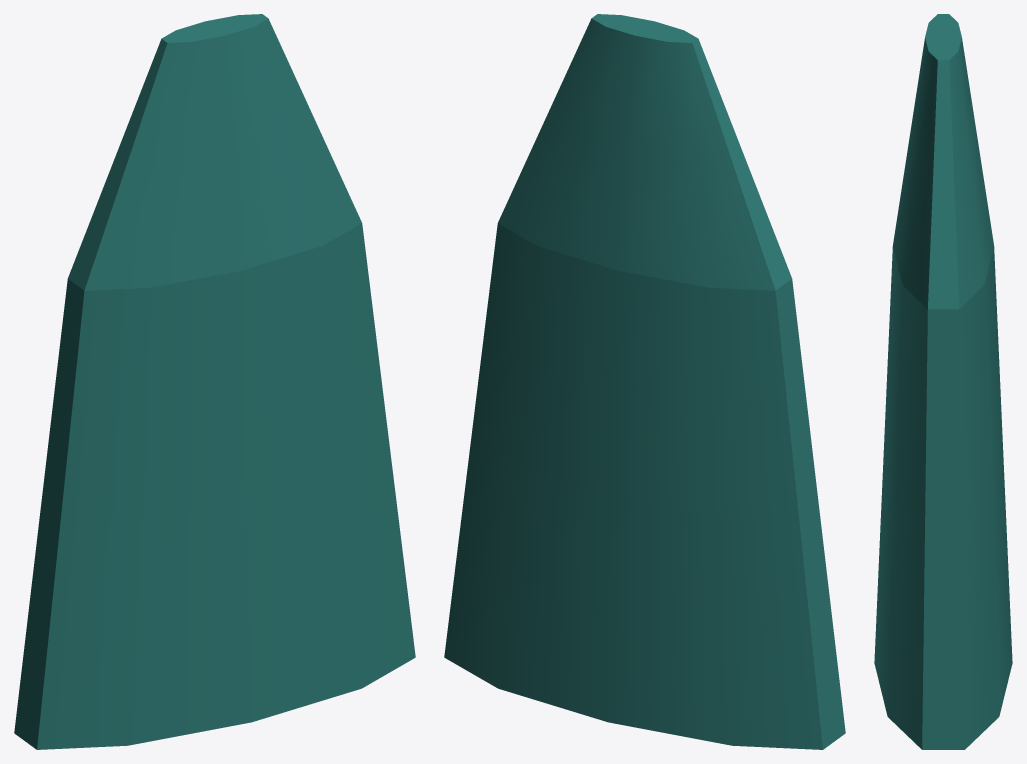
File: ear_floppy.glb
3 renders of one model, left to right at view 1: azimuth 30°, elevation 25°; view 2: azimuth 150°, elevation 25°; view 3: azimuth 270°, elevation 25°, orthographic. The views are drawn at different scales.
Parts seen in each view (by area): view 1: ear_floppy_seg0, ear_floppy_seg1, ear_floppy_seg2; view 2: ear_floppy_seg0, ear_floppy_seg1, ear_floppy_seg2; view 3: ear_floppy_seg0, ear_floppy_seg1, ear_floppy_seg2.
Part boxes in pixels (left/top/right/bottom): ear_floppy_seg0: left=14, top=440, right=415, bottom=749; ear_floppy_seg1: left=41, top=223, right=388, bottom=520; ear_floppy_seg2: left=68, top=14, right=361, bottom=290; ear_floppy_seg0: left=444, top=440, right=845, bottom=749; ear_floppy_seg1: left=471, top=223, right=818, bottom=520; ear_floppy_seg2: left=498, top=14, right=791, bottom=290; ear_floppy_seg0: left=874, top=455, right=1012, bottom=749; ear_floppy_seg1: left=883, top=246, right=1003, bottom=529; ear_floppy_seg2: left=893, top=14, right=993, bottom=309.
Bounding box in the file's own units: 0.2853 × 0.48 × 0.096.
